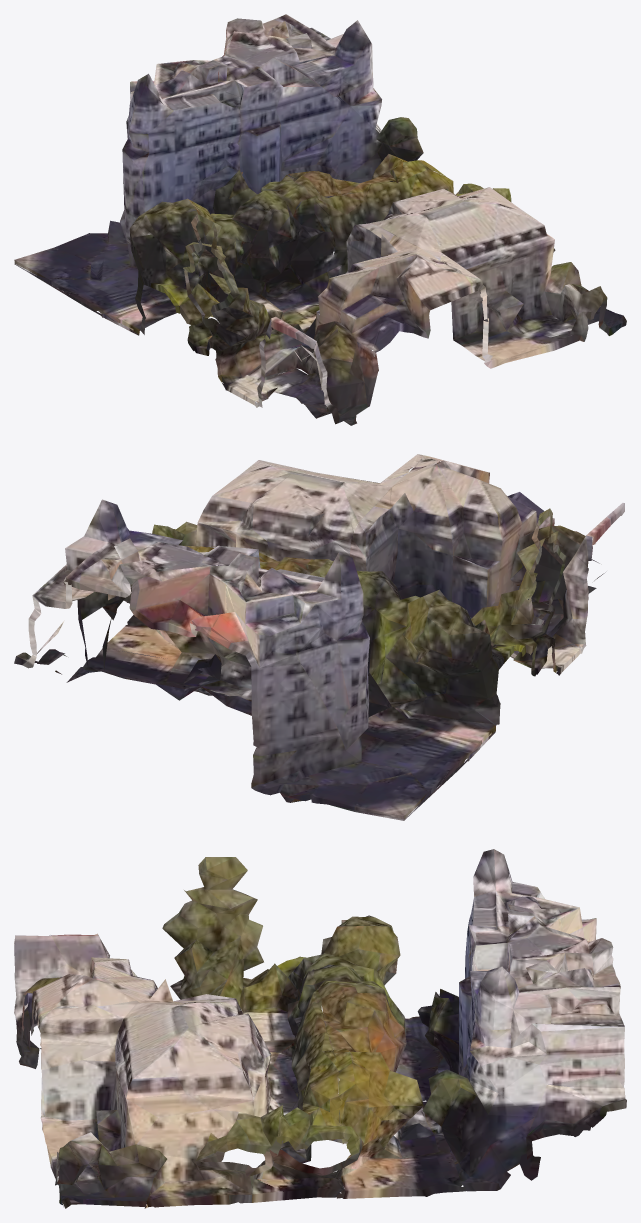
3 views of the same model, one above another, from view 1: azimuth 30°, elevation 25°; view 2: azimuth 150°, elevation 25°; view 3: azimuth 270°, elevation 25° (orthographic). The views are drawn at different scales.
Parts seen in each view (by area): view 1: Mesh_0; view 2: Mesh_0; view 3: Mesh_0.
Part boxes in pixels (<box>): Mesh_0: <box>14,14,626,425</box>; Mesh_0: <box>14,454,624,820</box>; Mesh_0: <box>14,849,626,1208</box>.
Bounding box in the file's own units: 66.59 × 33.28 × 82.48.
Materials: 1 (1 with a texture image).
